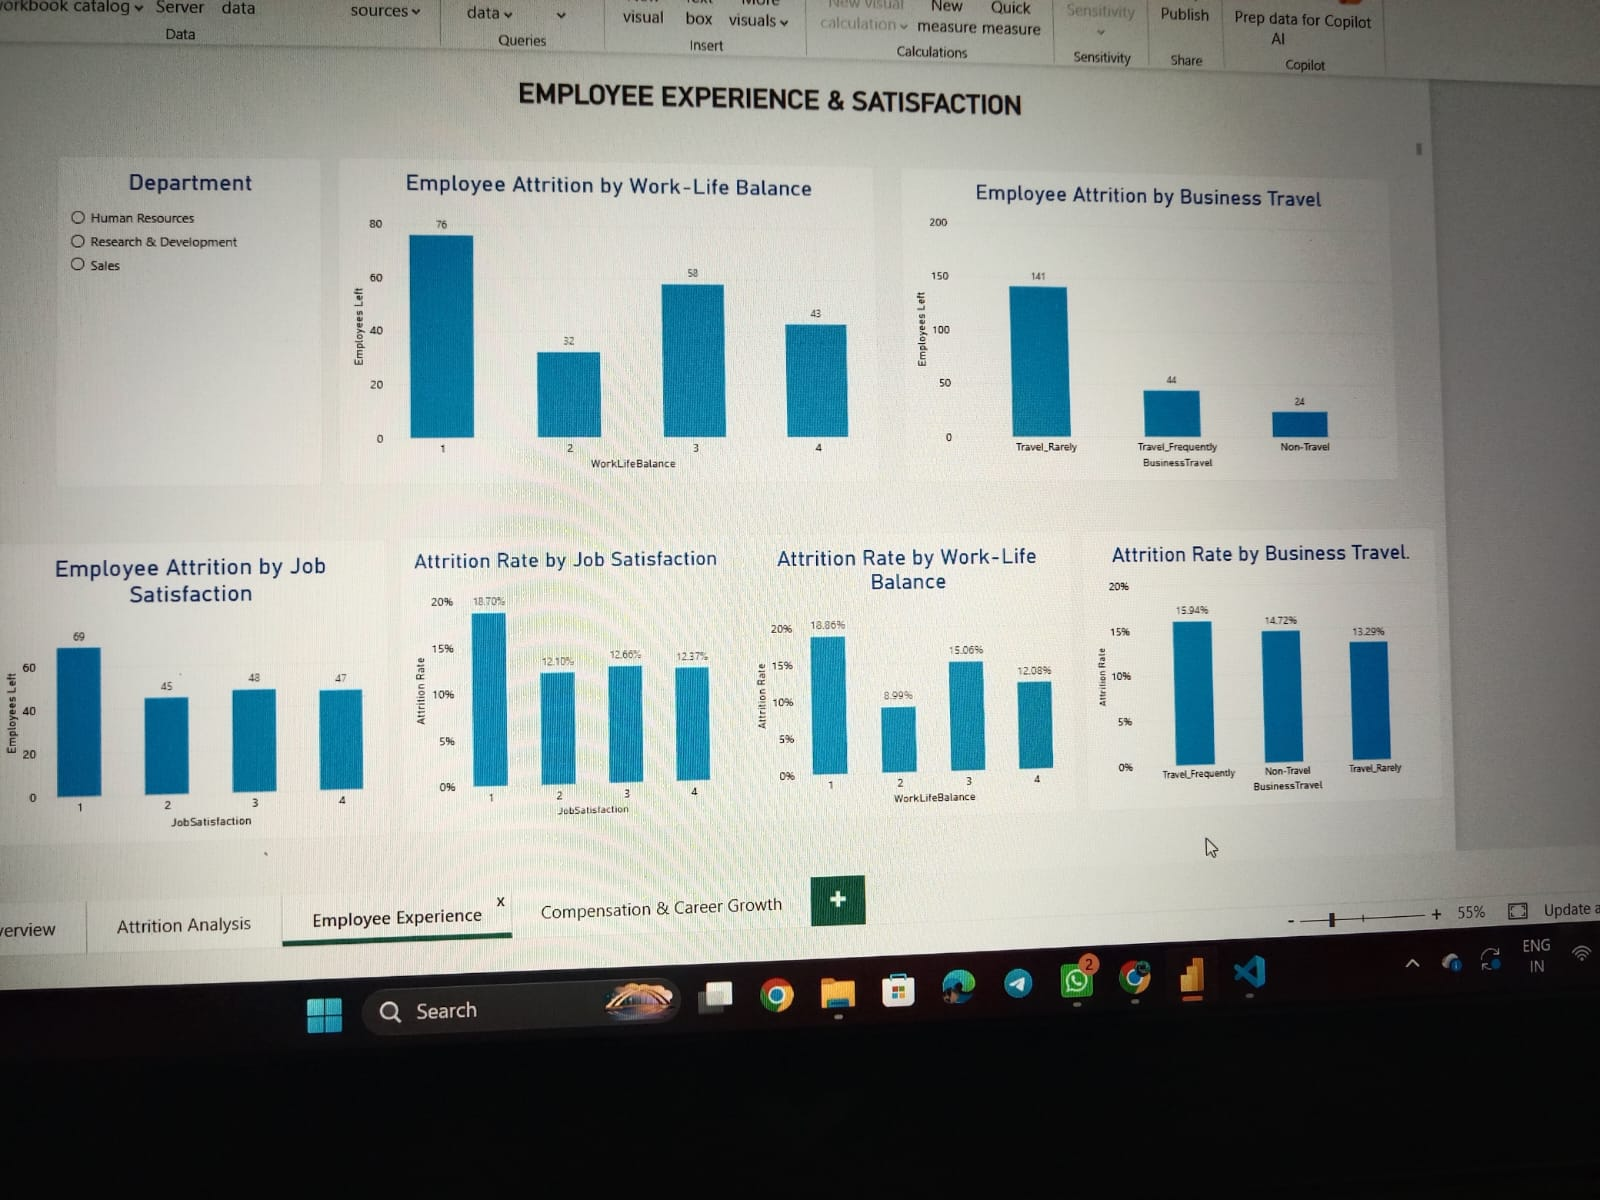

The page's visual inventory and layout, read from the dashboard file:
{"tool":"powerbi","page":{"name":"Employee Experience","canvas":[1920,1080],"ordinal":2},"visuals":[{"type":"clusteredColumnChart","title":"Employee Attrition by Work-Life Balance","fields":{"Category":["hr_analytics employees.WorkLifeBalance"],"Y":["hr_analytics employees.Employees Left"]},"box":[437.9,144.8,691.3,421.7],"z":0},{"type":"clusteredColumnChart","title":"Employee Attrition by Business Travel","fields":{"Category":["hr_analytics employees.BusinessTravel"],"Y":["hr_analytics employees.Employees Left"]},"box":[1163.6,144.8,691,422],"z":1},{"type":"clusteredColumnChart","title":"Employee Attrition by Job Satisfaction","fields":{"Category":["hr_analytics employees.JobSatisfaction"],"Y":["hr_analytics employees.Employees Left"]},"box":[14.5,635.2,483.2,374.6],"z":2},{"type":"listSlicer","fields":{"Values":["hr_analytics employees.Department"]},"box":[92.3,146.6,325.7,419.8],"z":3},{"type":"clusteredColumnChart","title":"Attrition Rate by Work-Life Balance","fields":{"Category":["hr_analytics employees.WorkLifeBalance"],"Y":["hr_analytics employees.Attrition Rate"]},"box":[942.8,633.4,441.6,374.6],"z":4},{"type":"clusteredColumnChart","title":"Attrition Rate by Business Travel.","fields":{"Category":["hr_analytics employees.BusinessTravel"],"Y":["hr_analytics employees.Attrition Rate"]},"box":[1398.9,633.4,506.7,374.6],"z":5},{"type":"clusteredColumnChart","title":"Attrition Rate by Job Satisfaction","fields":{"Category":["hr_analytics employees.JobSatisfaction"],"Y":["hr_analytics employees.Attrition Rate"]},"box":[512.1,633.4,418,374.6],"z":6},{"type":"textbox","title":"EMPLOYEE EXPERIENCE & SATISFACTION","box":[92.3,36.2,1813.3,74.2],"z":7}]}

Visuals, with their boxes on the page's 1920x1080 design canvas (x1, y1, x2, y2). These are canvas units, not pixel positions in the 1600x1200 screenshot, which may show the page scaled, cropped or inside an application window:
"Employee Attrition by Work-Life Balance" clusteredColumnChart: locate(438, 145, 1129, 566)
"Employee Attrition by Business Travel" clusteredColumnChart: locate(1164, 145, 1855, 567)
"Employee Attrition by Job Satisfaction" clusteredColumnChart: locate(14, 635, 498, 1010)
listSlicer - hr_analytics employees.Department: locate(92, 147, 418, 566)
"Attrition Rate by Work-Life Balance" clusteredColumnChart: locate(943, 633, 1384, 1008)
"Attrition Rate by Business Travel." clusteredColumnChart: locate(1399, 633, 1906, 1008)
"Attrition Rate by Job Satisfaction" clusteredColumnChart: locate(512, 633, 930, 1008)
"EMPLOYEE EXPERIENCE & SATISFACTION" textbox: locate(92, 36, 1906, 110)
